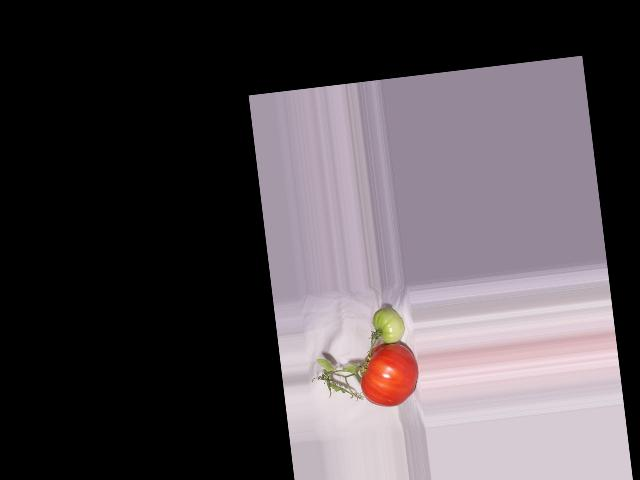tomato: (356, 339, 421, 409)
